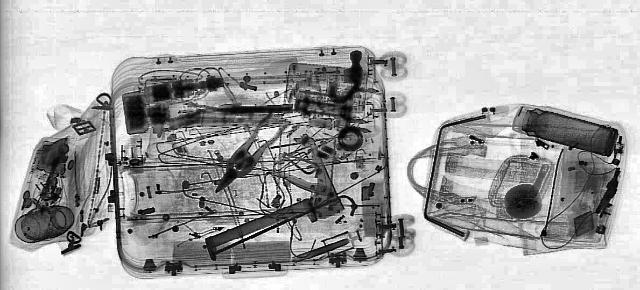Pliers: (200, 110, 300, 194)
